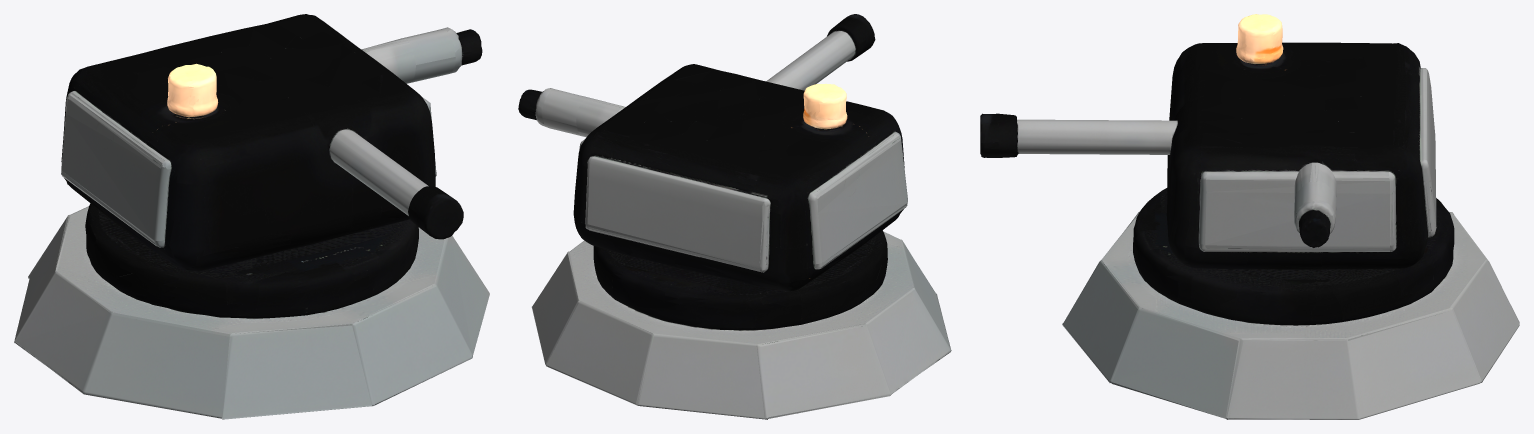
The model's file is vscode.glb.
The picture shows the model from 3 angles, left to right: view 1: azimuth 30°, elevation 25°; view 2: azimuth 150°, elevation 25°; view 3: azimuth 270°, elevation 25°; orthographic projection. The views are drawn at different scales.
Size of the model in its own units: 0.9043 by 0.5488 by 1.
1 material, 1 textured.
